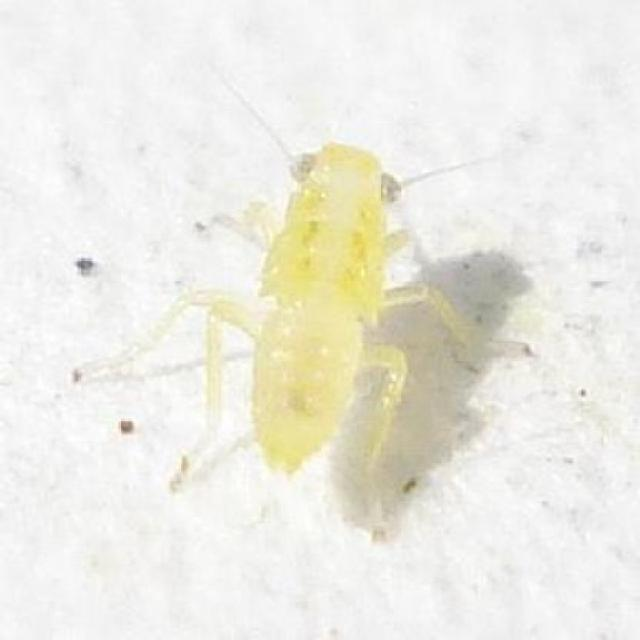green-leafhopper: (60, 142, 530, 527)
